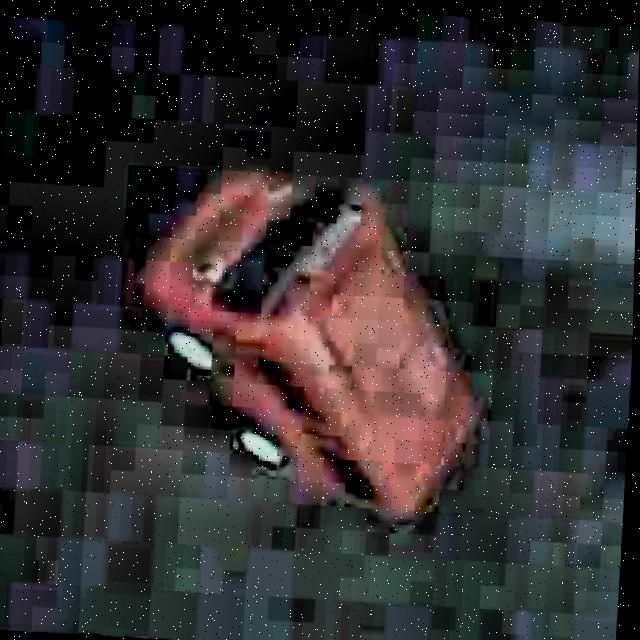bus: (114, 148, 502, 527)
